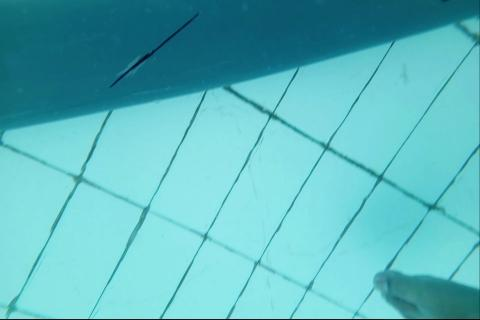keretakan: (110, 9, 200, 93)
